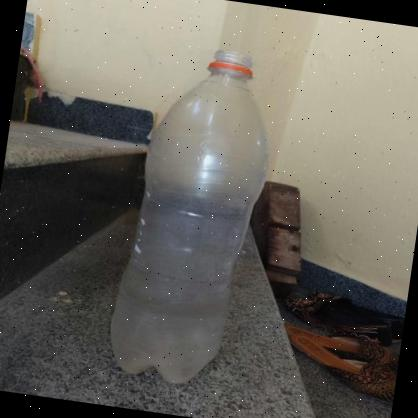bottle: (84, 31, 288, 407)
